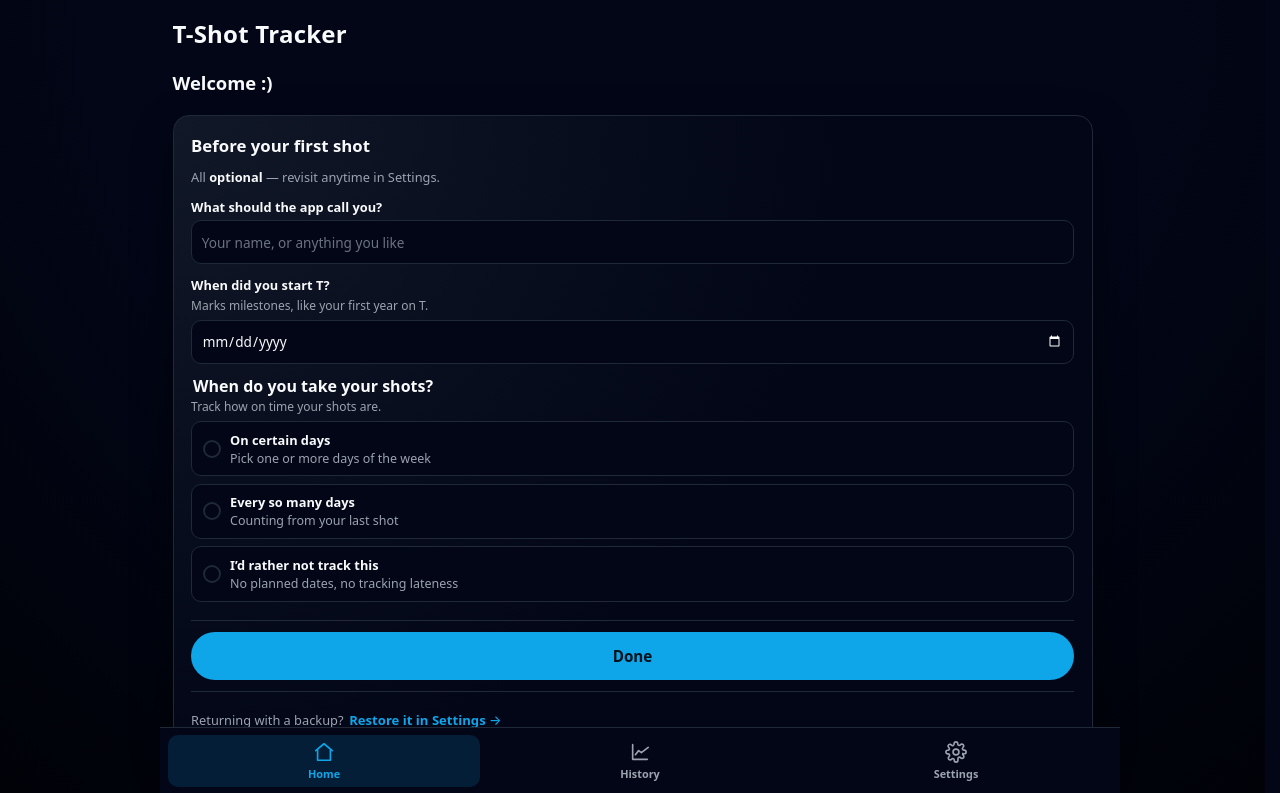
Test: App — navigation › moves between the three tabs
Click the button "History".
click(640, 761)  # box left=484, top=735, right=796, bottom=787
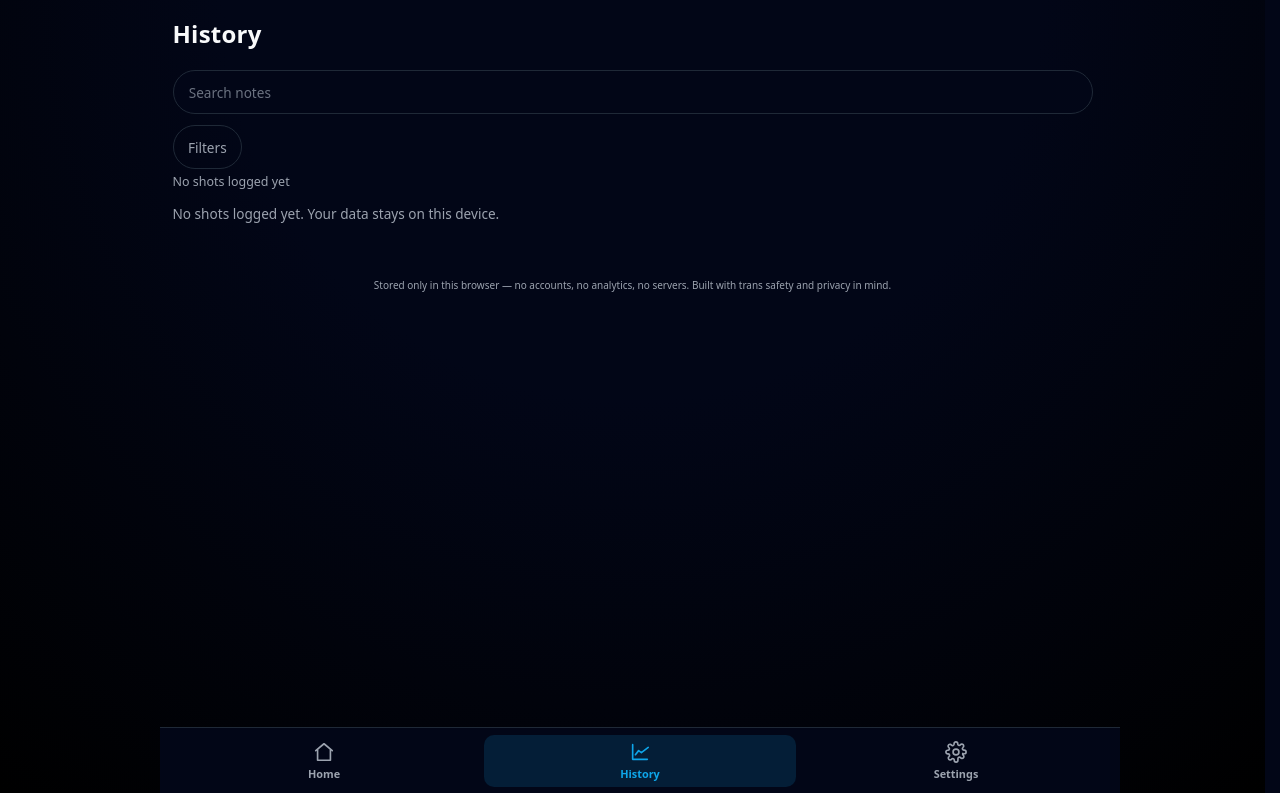
expect the heading "History" is shown: met, box left=172, top=17, right=262, bottom=50
expect the search field with placeholder "Search notes" is shown: met, box left=172, top=70, right=1092, bottom=114
Click the button "Settings".
click(956, 761)  # box left=800, top=735, right=1112, bottom=787
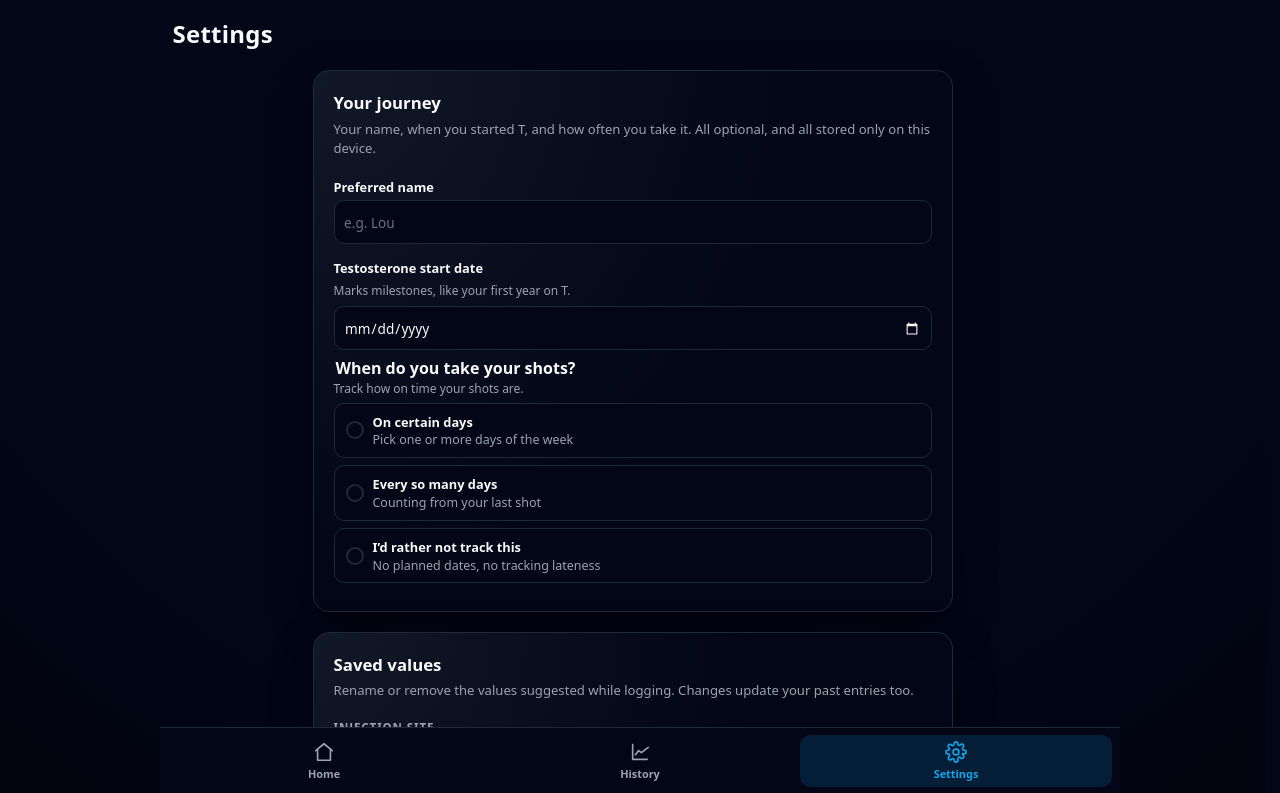
expect the heading "Settings" is shown: met, box left=172, top=17, right=273, bottom=50
Click the button "Home".
click(324, 761)  # box left=168, top=735, right=480, bottom=787
(page scrolled)
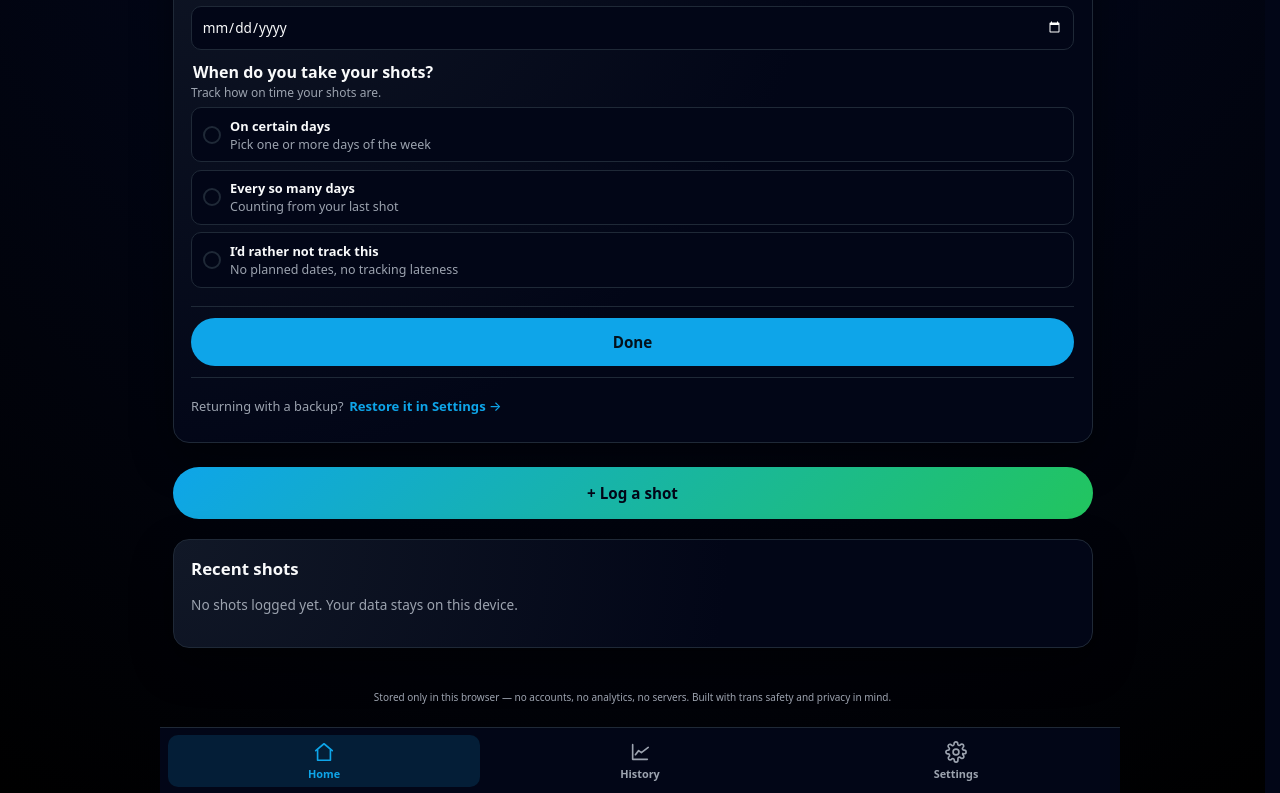
expect the button "+ Log a shot" is shown: met, box left=172, top=466, right=1092, bottom=518
